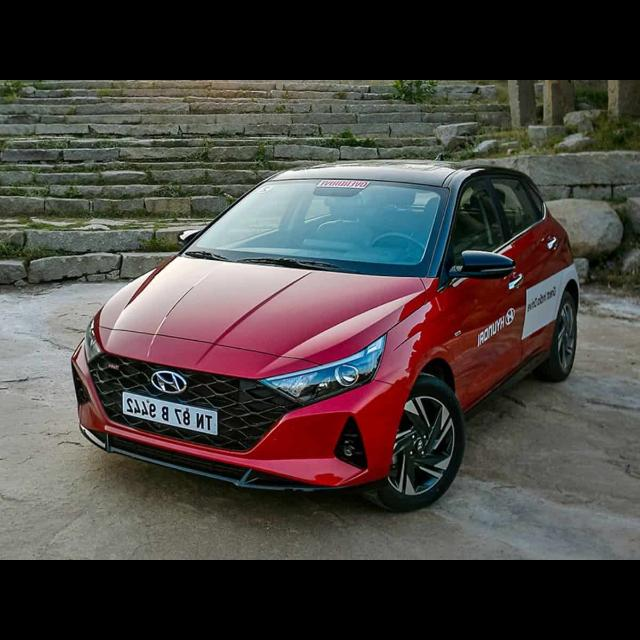vehicles: (70, 158, 580, 518)
